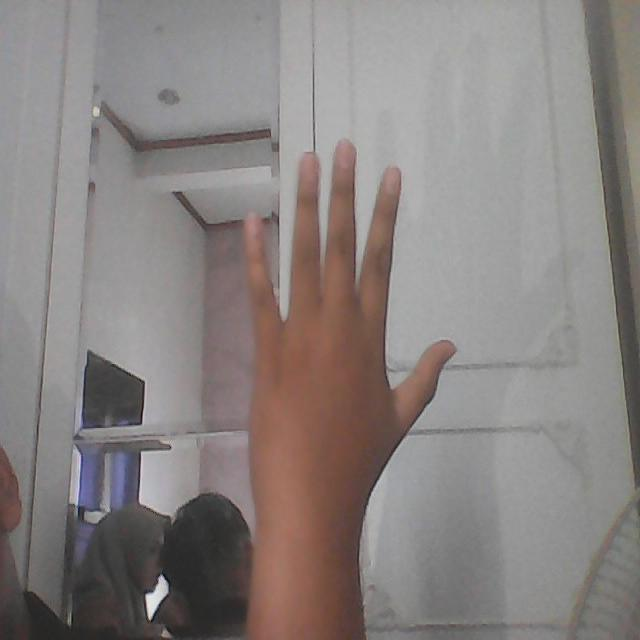hand: (242, 136, 456, 602)
